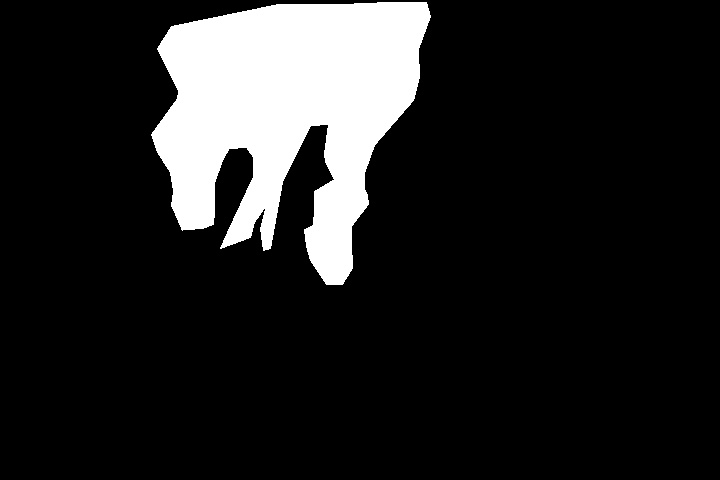Fire: (147, 8, 411, 282)
